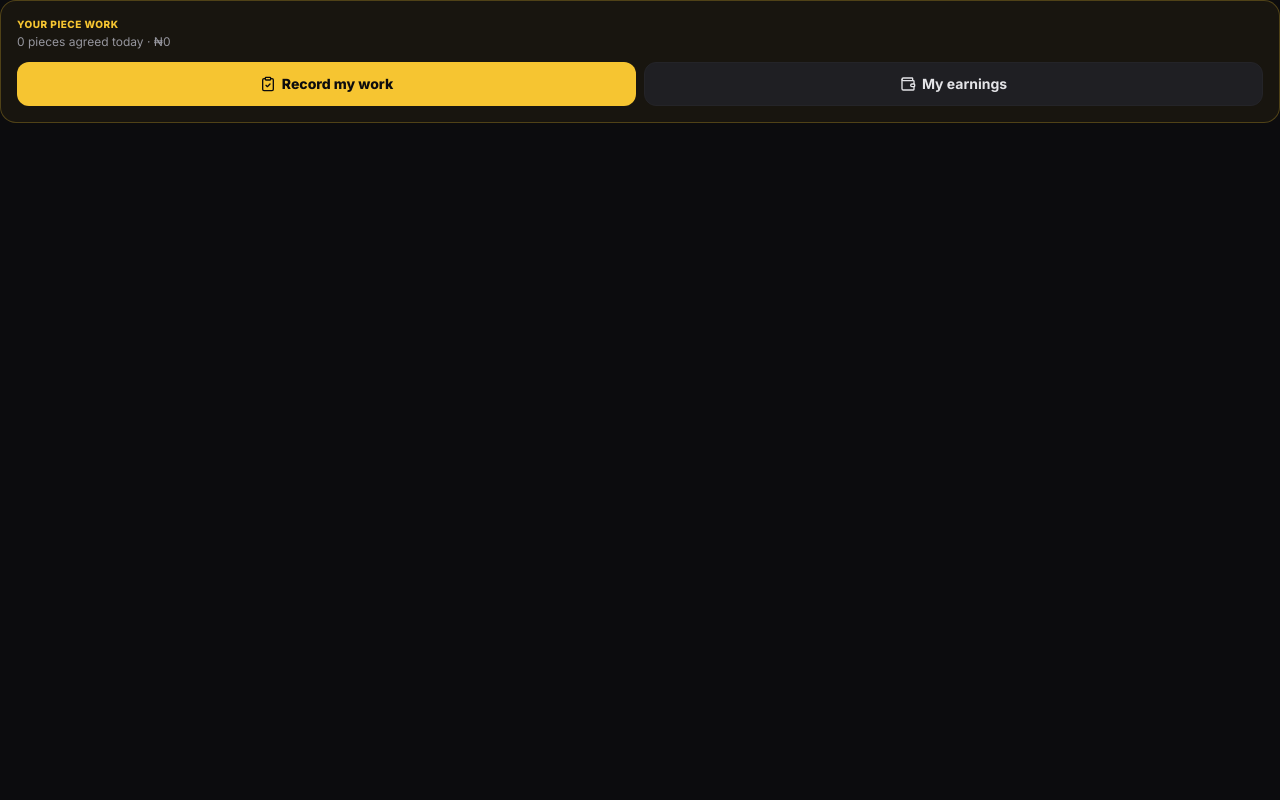
Test case: a per-piece worker's home screen › starts from the task, then offers real bundles, including one booked on another phone
Click the button "Record my work" at (326, 84), box [17,62,636,106]
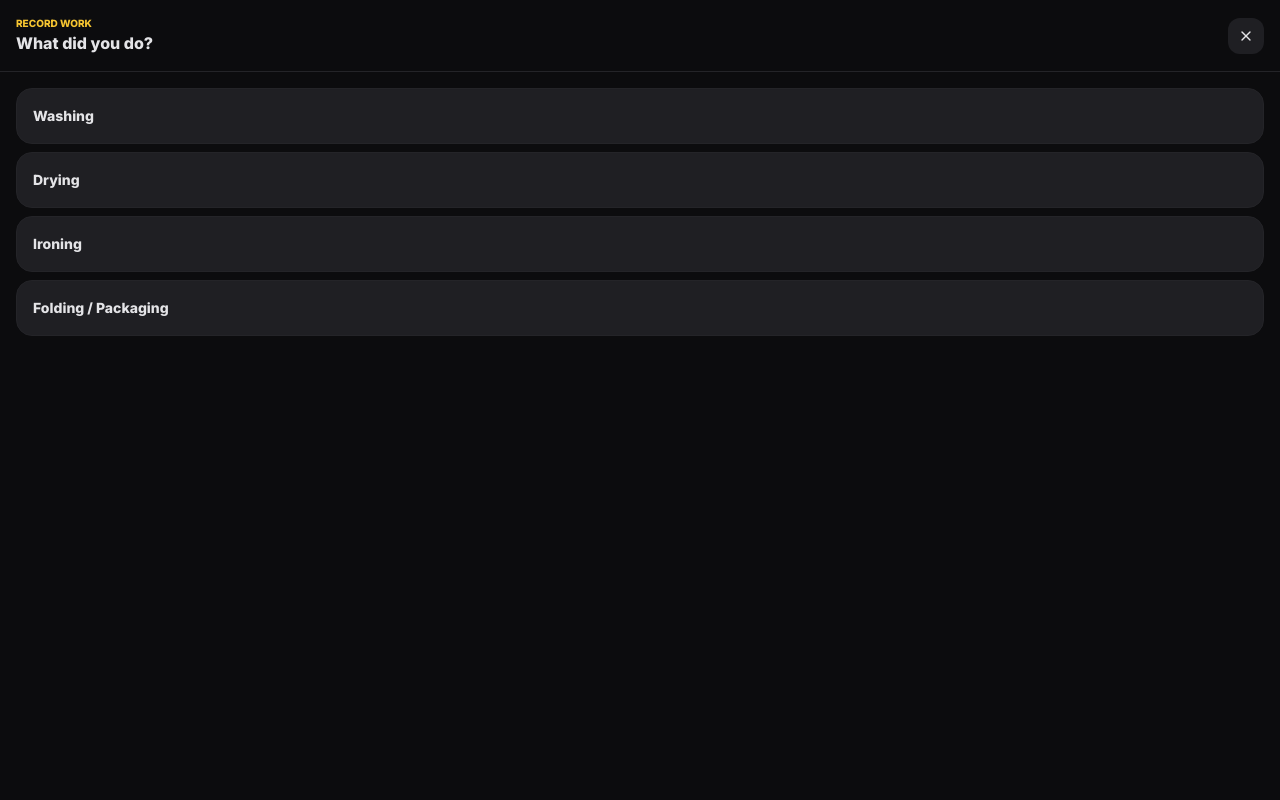
Expected: the heading "What did you do?" is shown, [16,31,153,55]
Click the button "Ironing" at (57, 244), box [16,216,1264,272]
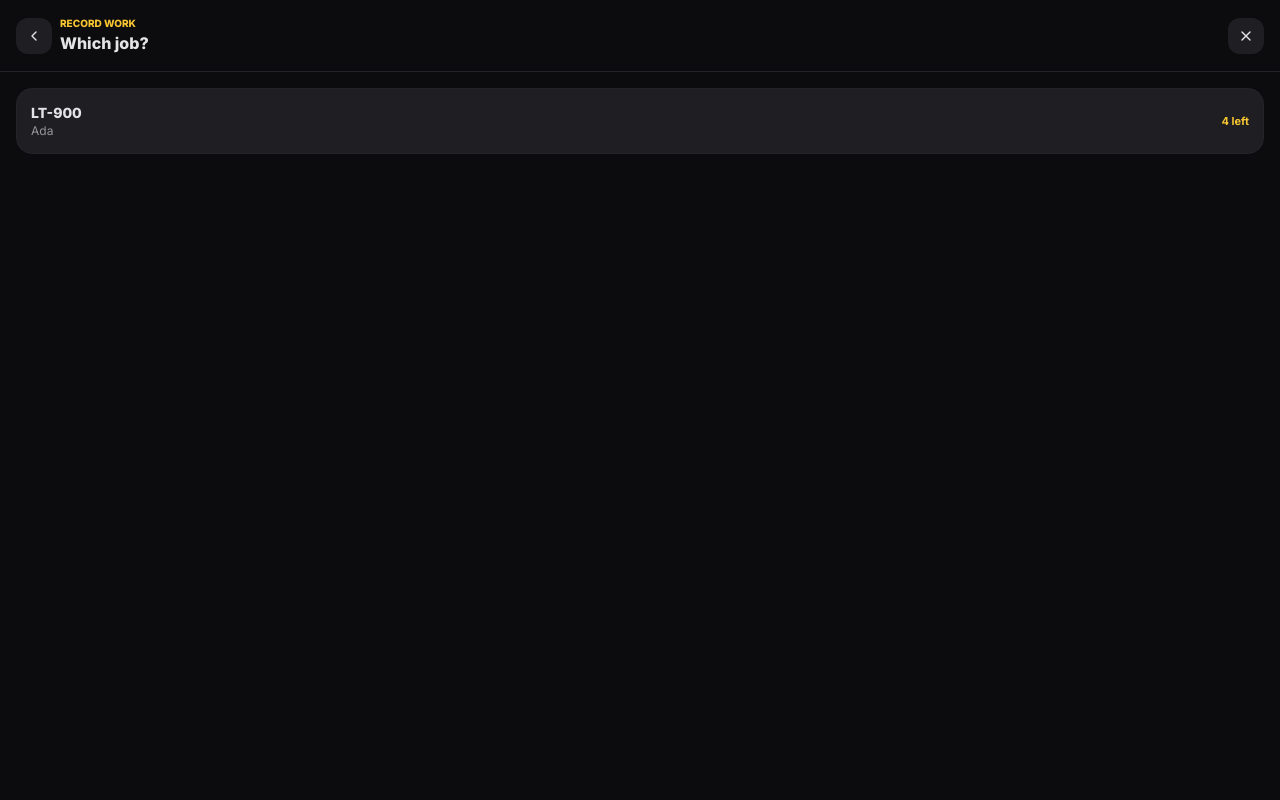
Expected: the text "LT-900" is shown, [31,103,82,123]
Expected: the text "Ada" is shown, [31,123,53,138]
